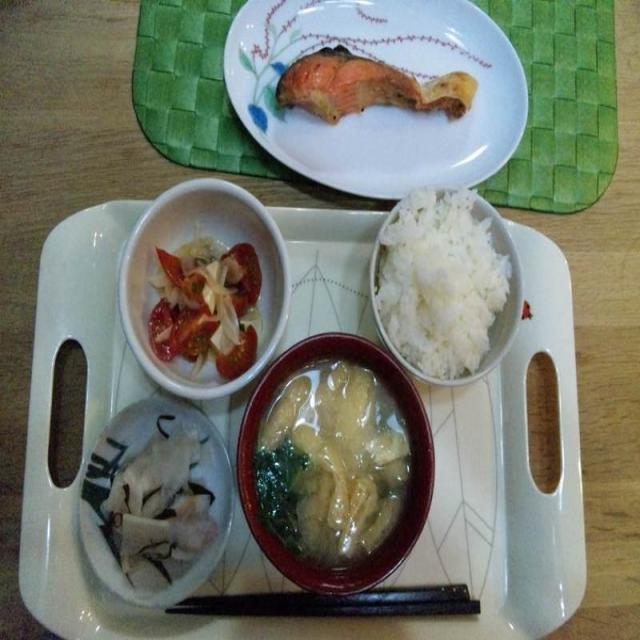Rice: (366, 181, 529, 401)
